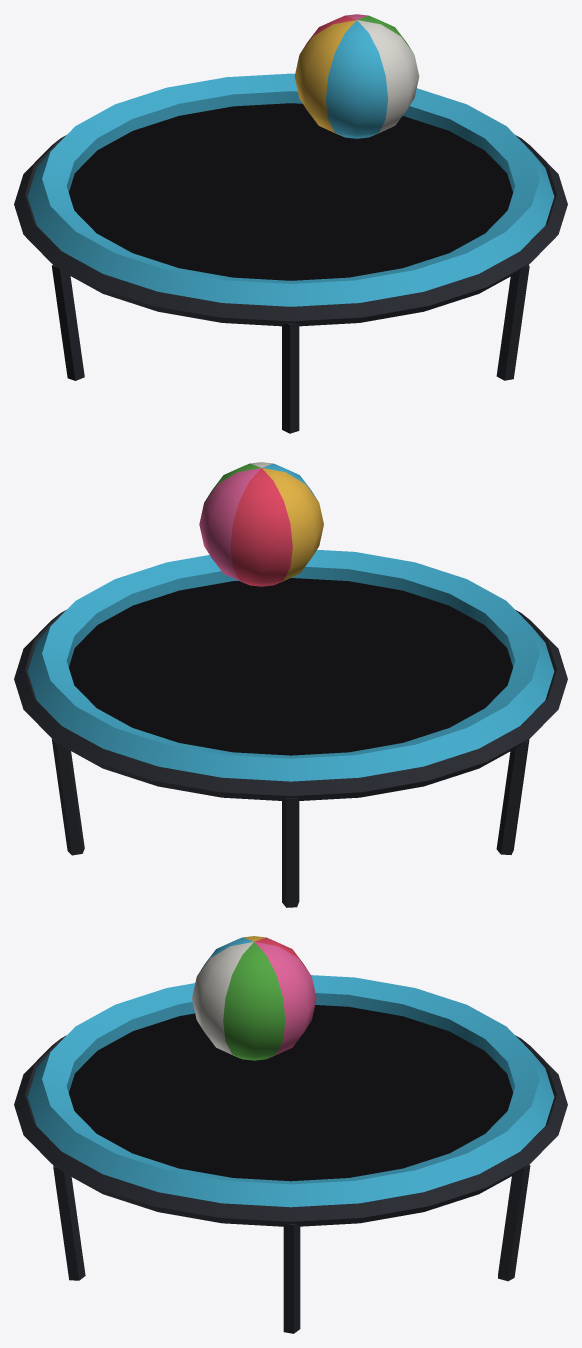
The model's file is trampoline.glb.
3 views of the same model, one above another, from view 1: azimuth 30°, elevation 25°; view 2: azimuth 150°, elevation 25°; view 3: azimuth 270°, elevation 25° (orthographic).
Visible parts, largest first — view 1: body, anim_bob_ball; view 2: body, anim_bob_ball; view 3: body, anim_bob_ball.
Boxes of the visible parts, <box> form: body: <box>14,73,567,433</box>; anim_bob_ball: <box>294,14,419,138</box>; body: <box>14,549,567,907</box>; anim_bob_ball: <box>199,462,323,586</box>; body: <box>14,975,567,1333</box>; anim_bob_ball: <box>192,936,316,1060</box>.
Bounding box in the file's own units: 3.02 × 1.85 × 3.02.
